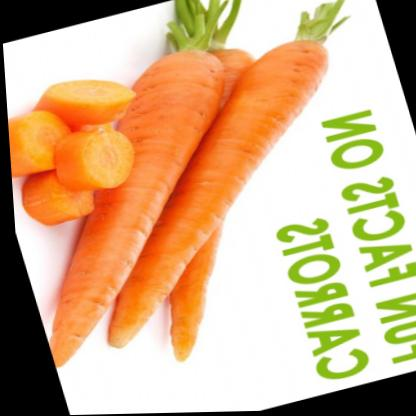carrot: (27, 0, 416, 352), (29, 53, 148, 134), (50, 112, 142, 205), (5, 89, 83, 187)
